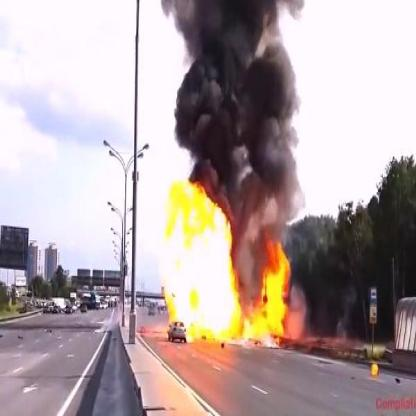fire: (162, 175, 293, 349), (370, 360, 379, 378)
